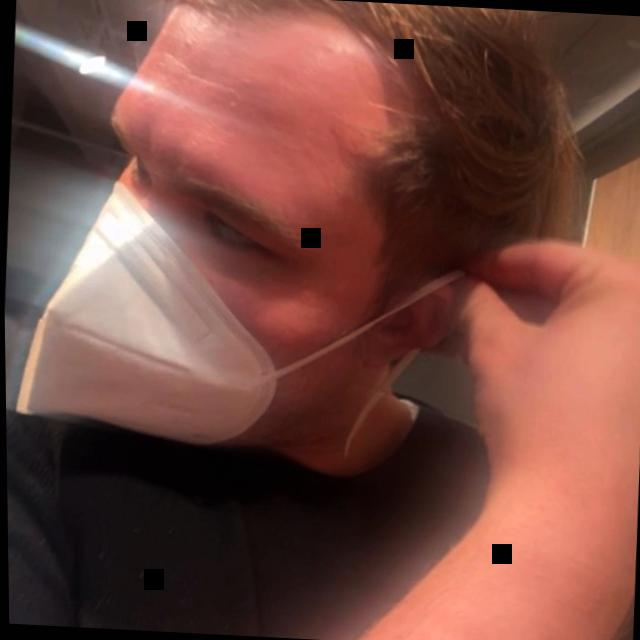Mask: (5, 0, 586, 443)
